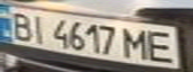1: (81, 21, 103, 54)
4: (48, 16, 69, 48)
6: (66, 19, 87, 52)
7: (96, 22, 121, 56)
B: (6, 9, 36, 42)
E: (145, 29, 181, 63)
I: (24, 12, 51, 44)
M: (121, 25, 151, 60)
